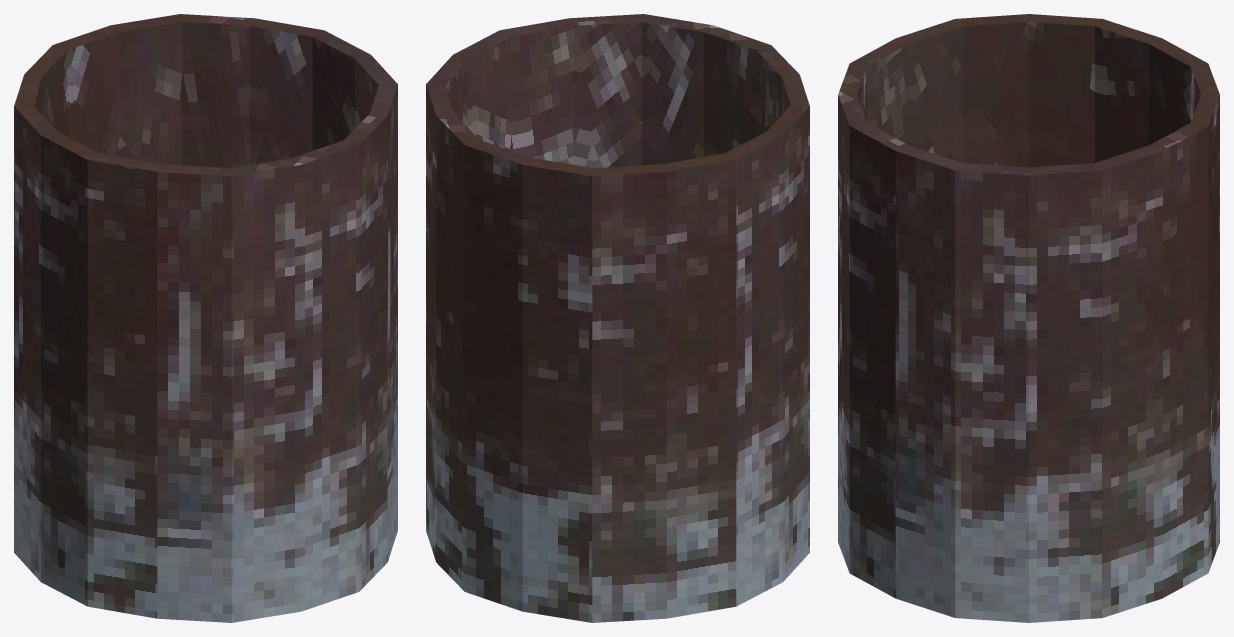
File: OilCanRusted.glb
3 renders of one model, left to right at view 1: azimuth 30°, elevation 25°; view 2: azimuth 150°, elevation 25°; view 3: azimuth 270°, elevation 25°, orthographic.
Visible parts, largest first — view 1: Cube; view 2: Cube; view 3: Cube.
Part boxes in pixels (x1,y1,x2,y2): Cube: (14, 14, 397, 622); Cube: (426, 14, 809, 622); Cube: (838, 14, 1219, 622).
Bounding box in the file's own units: 2.87 × 3.7 × 2.87.
1 material, 1 textured.
